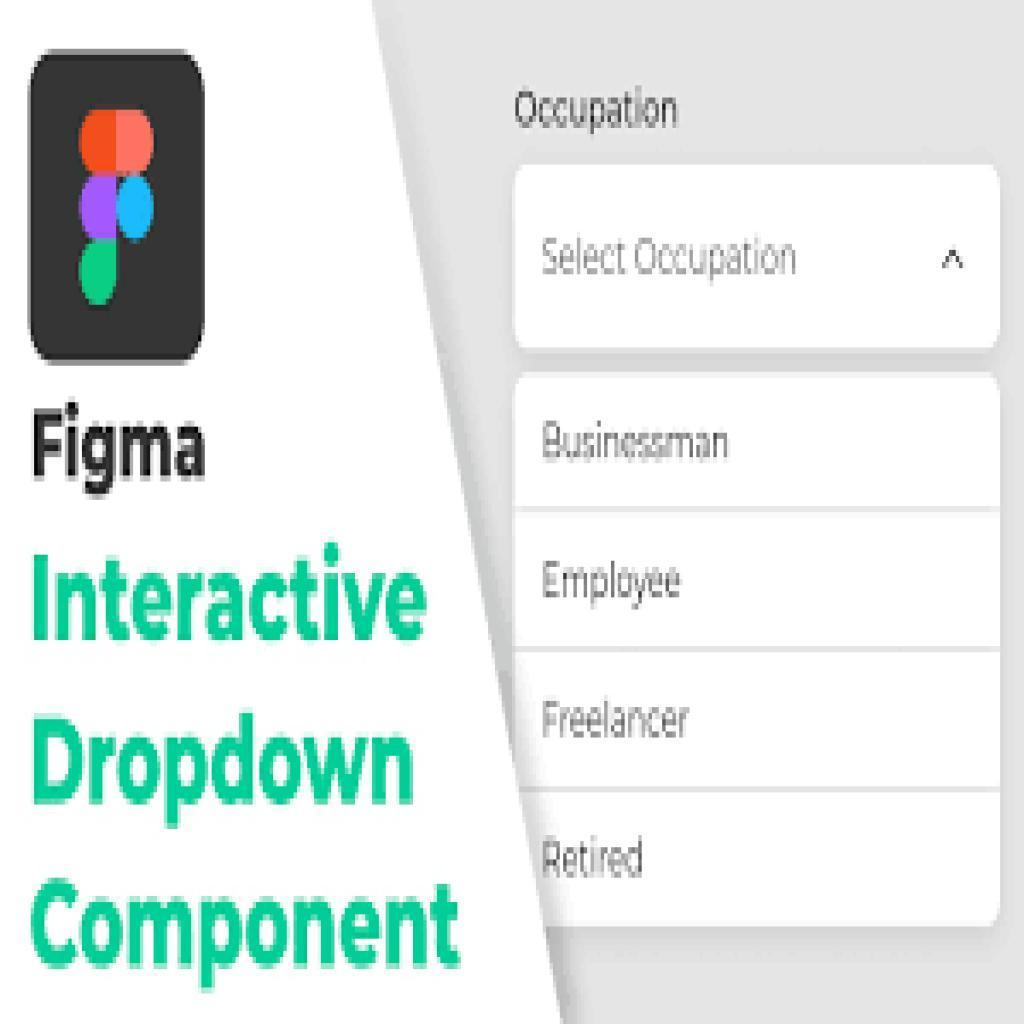dropdown: (514, 167, 1002, 358)
